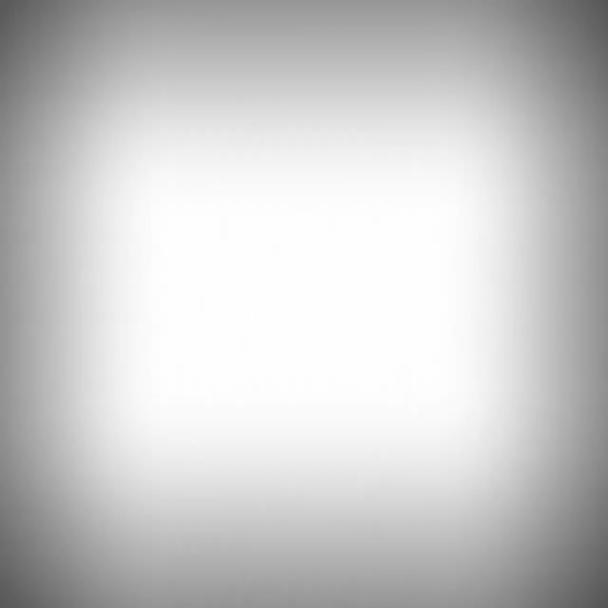smoke: (12, 0, 608, 607)
